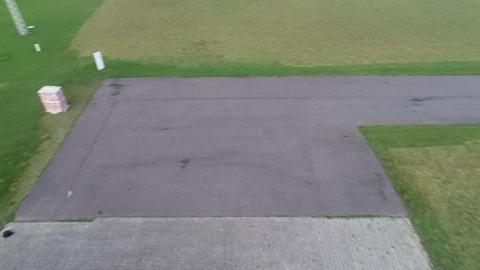RockwoolPallet: (37, 85, 70, 115)
